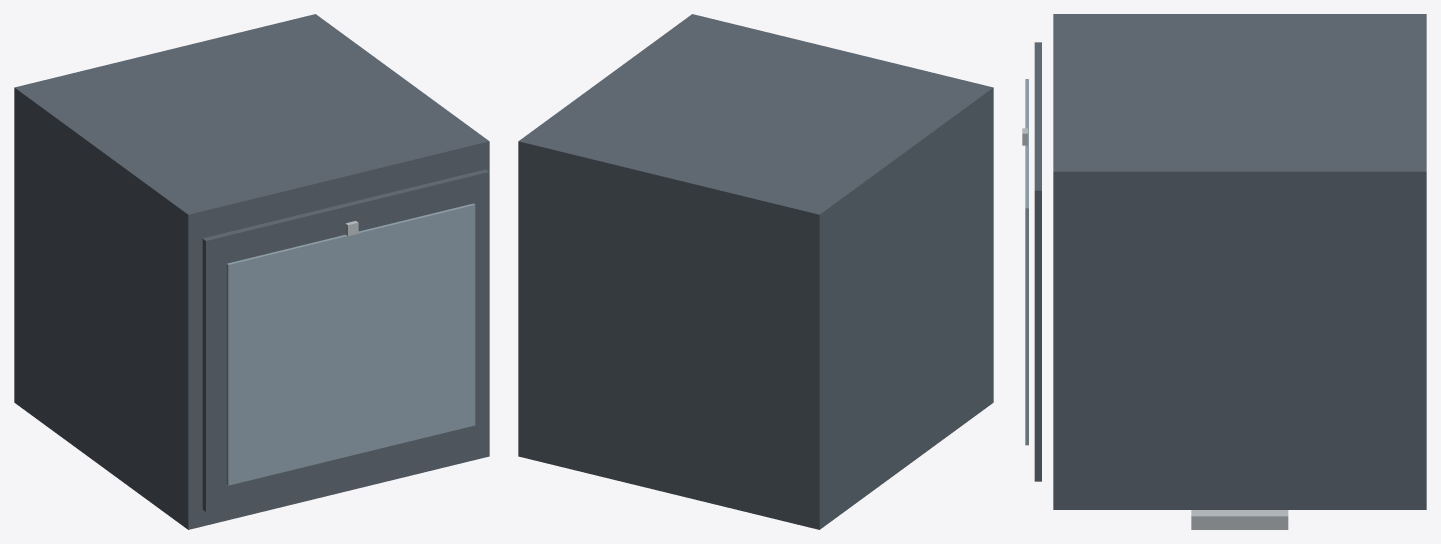
The picture shows the model from 3 angles, left to right: view 1: azimuth 30°, elevation 25°; view 2: azimuth 150°, elevation 25°; view 3: azimuth 270°, elevation 25°; orthographic projection. The views are drawn at different scales.
Visible parts, largest first — view 1: body, glow, screen; view 2: body; view 3: body, screen, foot, glow.
Part boxes in pixels (x1,y1,x2,y2): body: (14,14,489,529); glow: (226,203,475,485); screen: (202,169,489,511); body: (518,14,993,529); body: (1053,14,1426,509); screen: (1034,42,1041,481); foot: (1191,510,1288,529); glow: (1025,79,1028,445).
Size of the model in its own units: 1 by 1.18 by 1.08.
